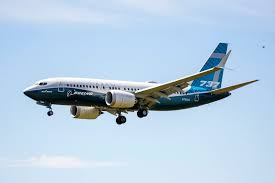maybay_dansu: (23, 42, 251, 117)
